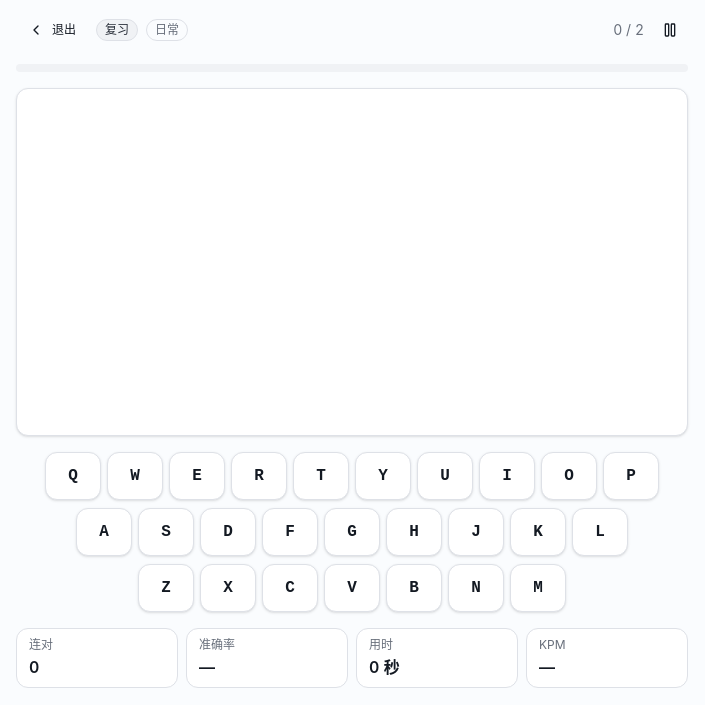
PracticeView › 暂停中可通过结束本次进入小结
Press Escape in the field named "编码输入区", box [16, 88, 688, 436]
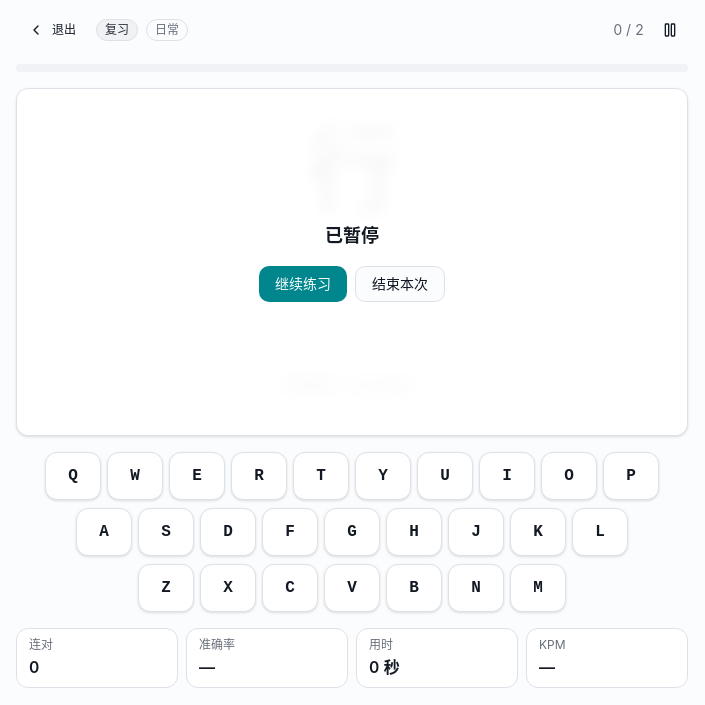
Click the button "结束本次" at point(400, 284), box [355, 266, 445, 302]
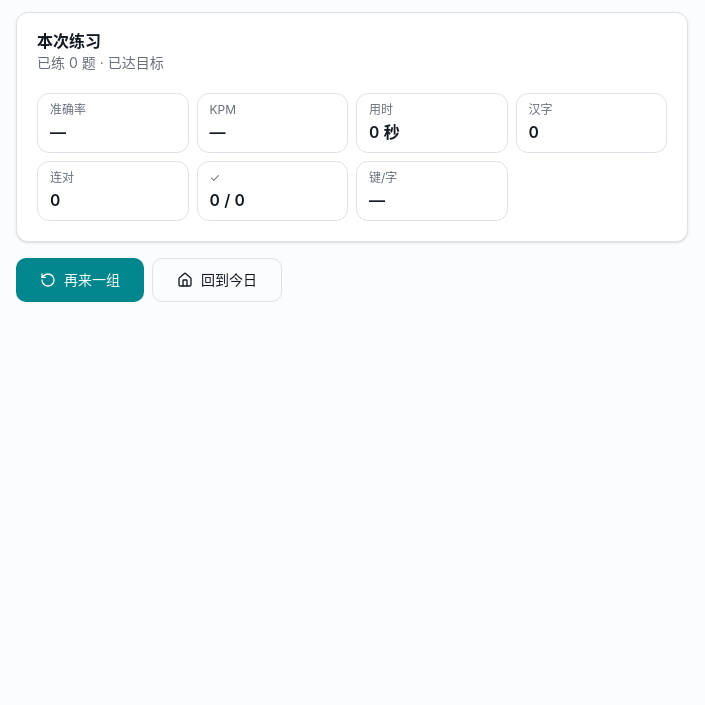
Expected: the heading "本次练习" is shown, [37, 31, 101, 51]
